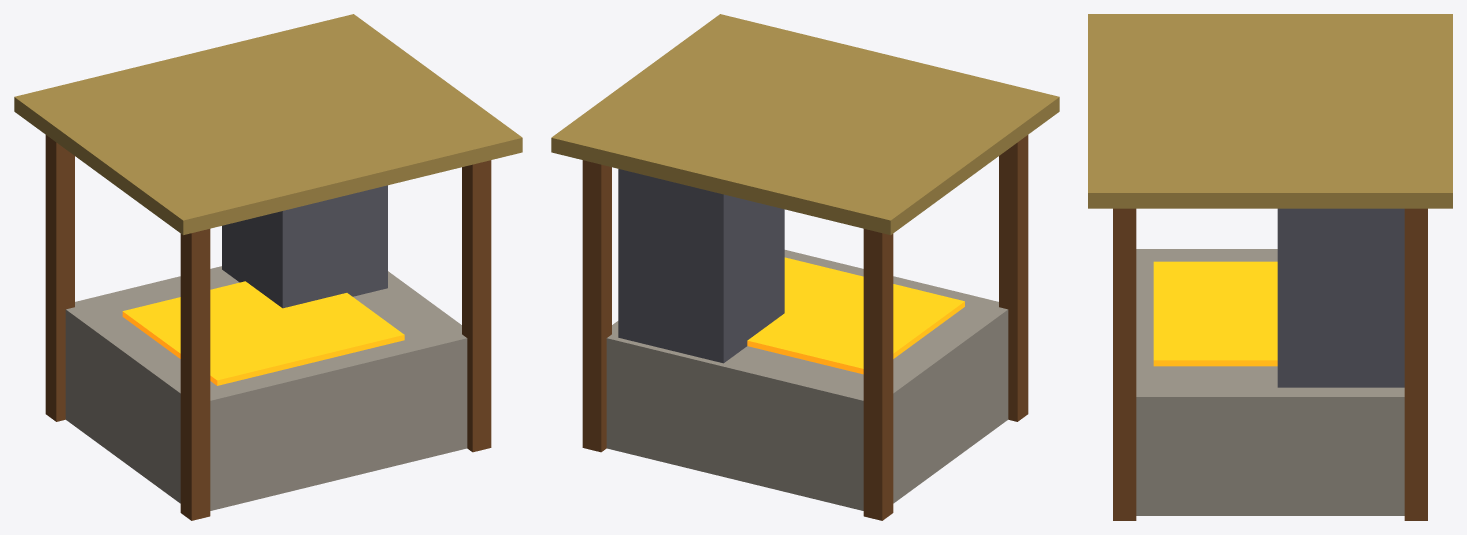
File: forge.glb
3 renders of one model, left to right at view 1: azimuth 30°, elevation 25°; view 2: azimuth 150°, elevation 25°; view 3: azimuth 270°, elevation 25°, orthographic. The views are drawn at different scales.
Parts seen in each view (by area): view 1: forge; view 2: forge; view 3: forge.
Boxes of the visible parts, bbox=[...] form: forge: bbox=[14, 14, 522, 520]; forge: bbox=[551, 14, 1059, 520]; forge: bbox=[1088, 14, 1452, 520].
Bounding box in the file's own units: 2.9 × 2.56 × 2.5.
